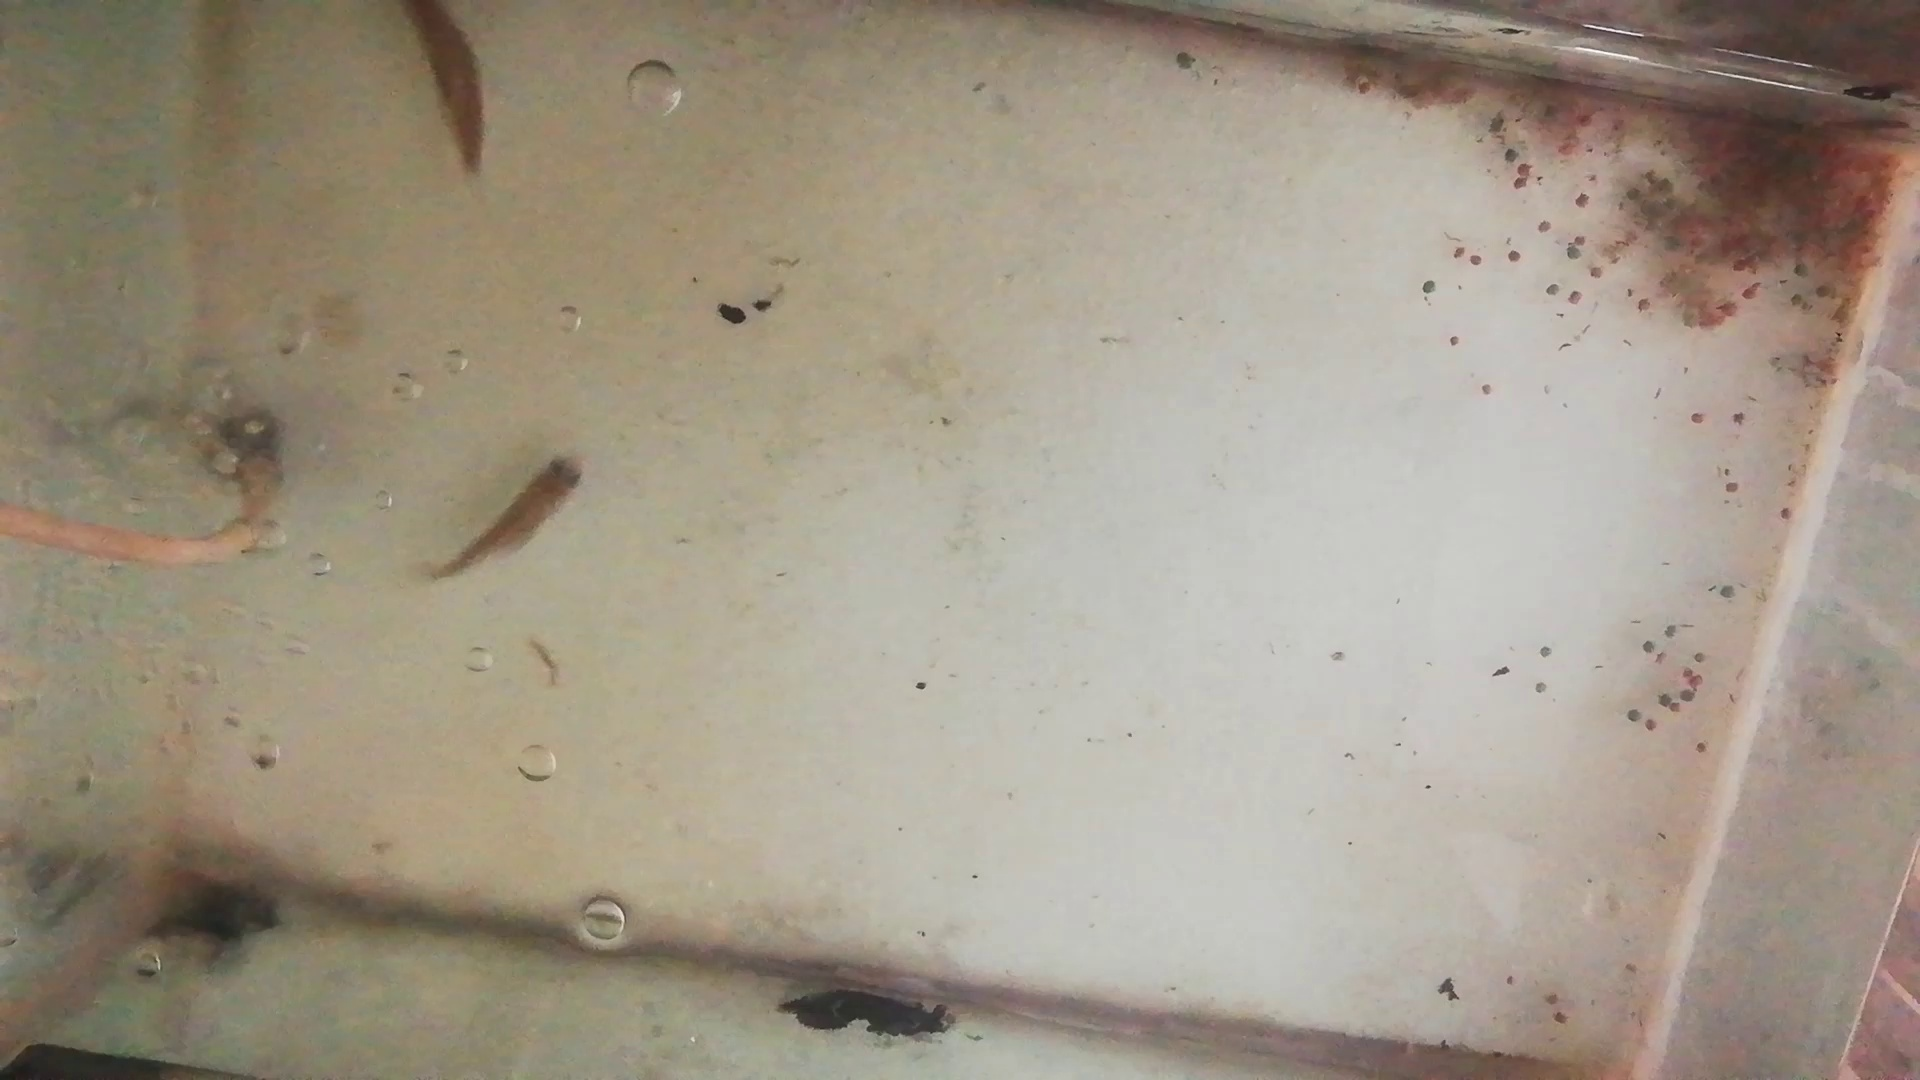fish: (417, 458, 599, 582), (393, 1, 492, 173)
